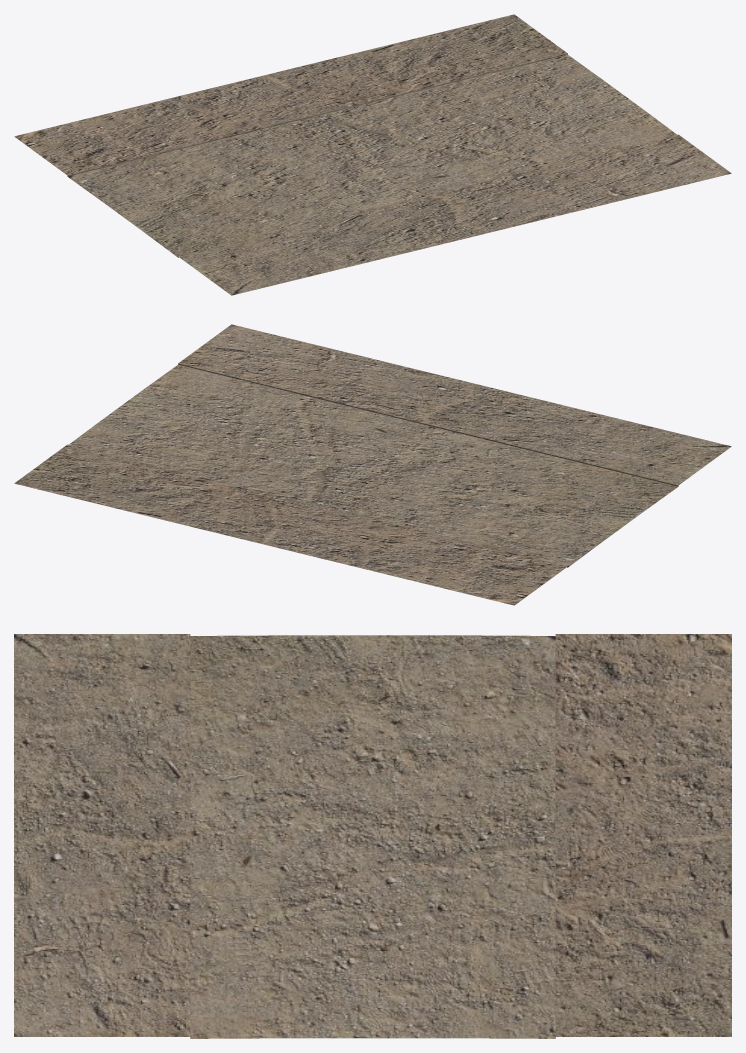
File: rua3.dae
3 renders of one model, top to bottom at view 1: azimuth 30°, elevation 25°; view 2: azimuth 150°, elevation 25°; view 3: azimuth 270°, elevation 25°, orthographic. The views are drawn at different scales.
Parts seen in each view (by area): view 1: Plane; view 2: Plane; view 3: Plane.
Part boxes in pixels (left/top/right/bottom): Plane: left=14, top=14, right=731, bottom=295; Plane: left=14, top=324, right=731, bottom=605; Plane: left=14, top=634, right=731, bottom=1038.
Size of the model in its own units: 1.22 by 0.9185 by 0.00276.
Materials: 1 (1 with a texture image).
